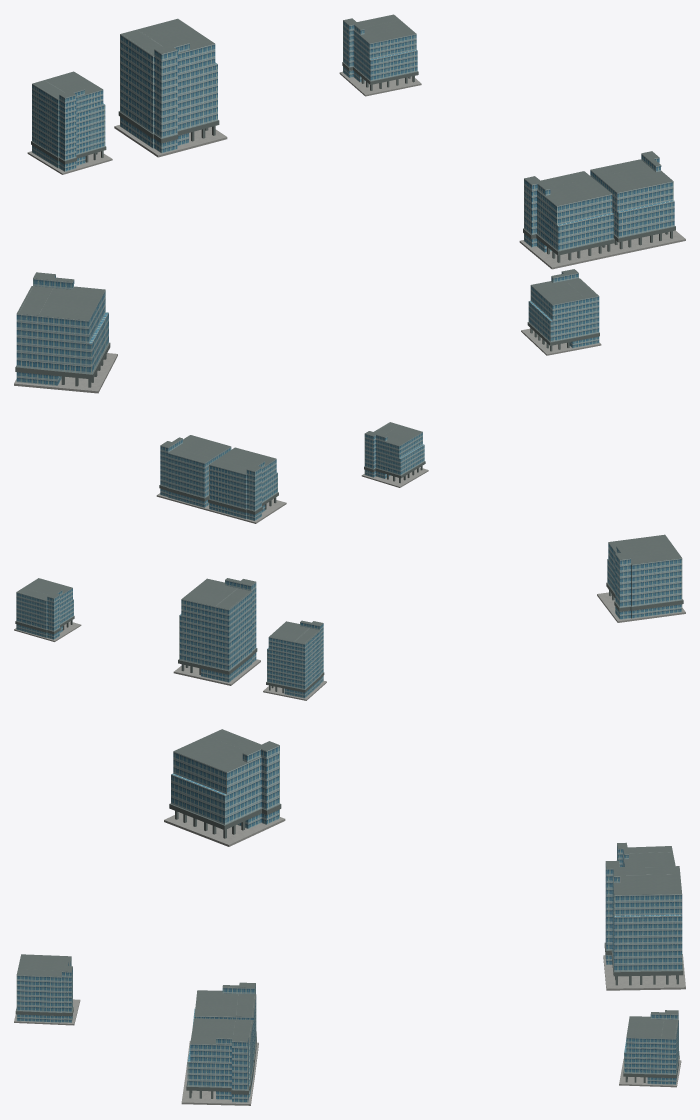
File: Mexico_track_building_city_01.dae
The picture shows the model from 3 angles, top to bottom: view 1: azimuth 30°, elevation 25°; view 2: azimuth 150°, elevation 25°; view 3: azimuth 270°, elevation 25°; orthographic projection. The views are drawn at different scales.
Parts seen in each view (by area): view 1: building_city_03, building_city_05, building_city_04, building_city_02, building_city_06, building_city_01; view 2: building_city_03, building_city_05, building_city_04, building_city_02, building_city_01, building_city_06; view 3: building_city_04, building_city_05, building_city_03, building_city_06, building_city_01, building_city_02.
Part boxes in pixels (bbox=[...]): building_city_03: bbox=[519, 151, 685, 269]; building_city_05: bbox=[114, 18, 227, 157]; building_city_04: bbox=[14, 272, 117, 393]; building_city_02: bbox=[27, 71, 112, 174]; building_city_06: bbox=[339, 14, 421, 96]; building_city_01: bbox=[521, 269, 601, 355]; building_city_03: bbox=[156, 435, 286, 523]; building_city_05: bbox=[173, 578, 260, 685]; building_city_04: bbox=[597, 534, 685, 622]; building_city_02: bbox=[263, 620, 326, 700]; building_city_01: bbox=[361, 422, 428, 487]; building_city_06: bbox=[14, 578, 81, 641]; building_city_04: bbox=[164, 729, 285, 846]; building_city_05: bbox=[603, 860, 685, 990]; building_city_03: bbox=[181, 982, 258, 1105]; building_city_06: bbox=[619, 1010, 681, 1087]; building_city_01: bbox=[14, 954, 80, 1025]; building_city_02: bbox=[617, 842, 675, 866].
Size of the model in its own units: 62.03 by 56.75 by 9.2.
Materials: 2 (2 with a texture image).
